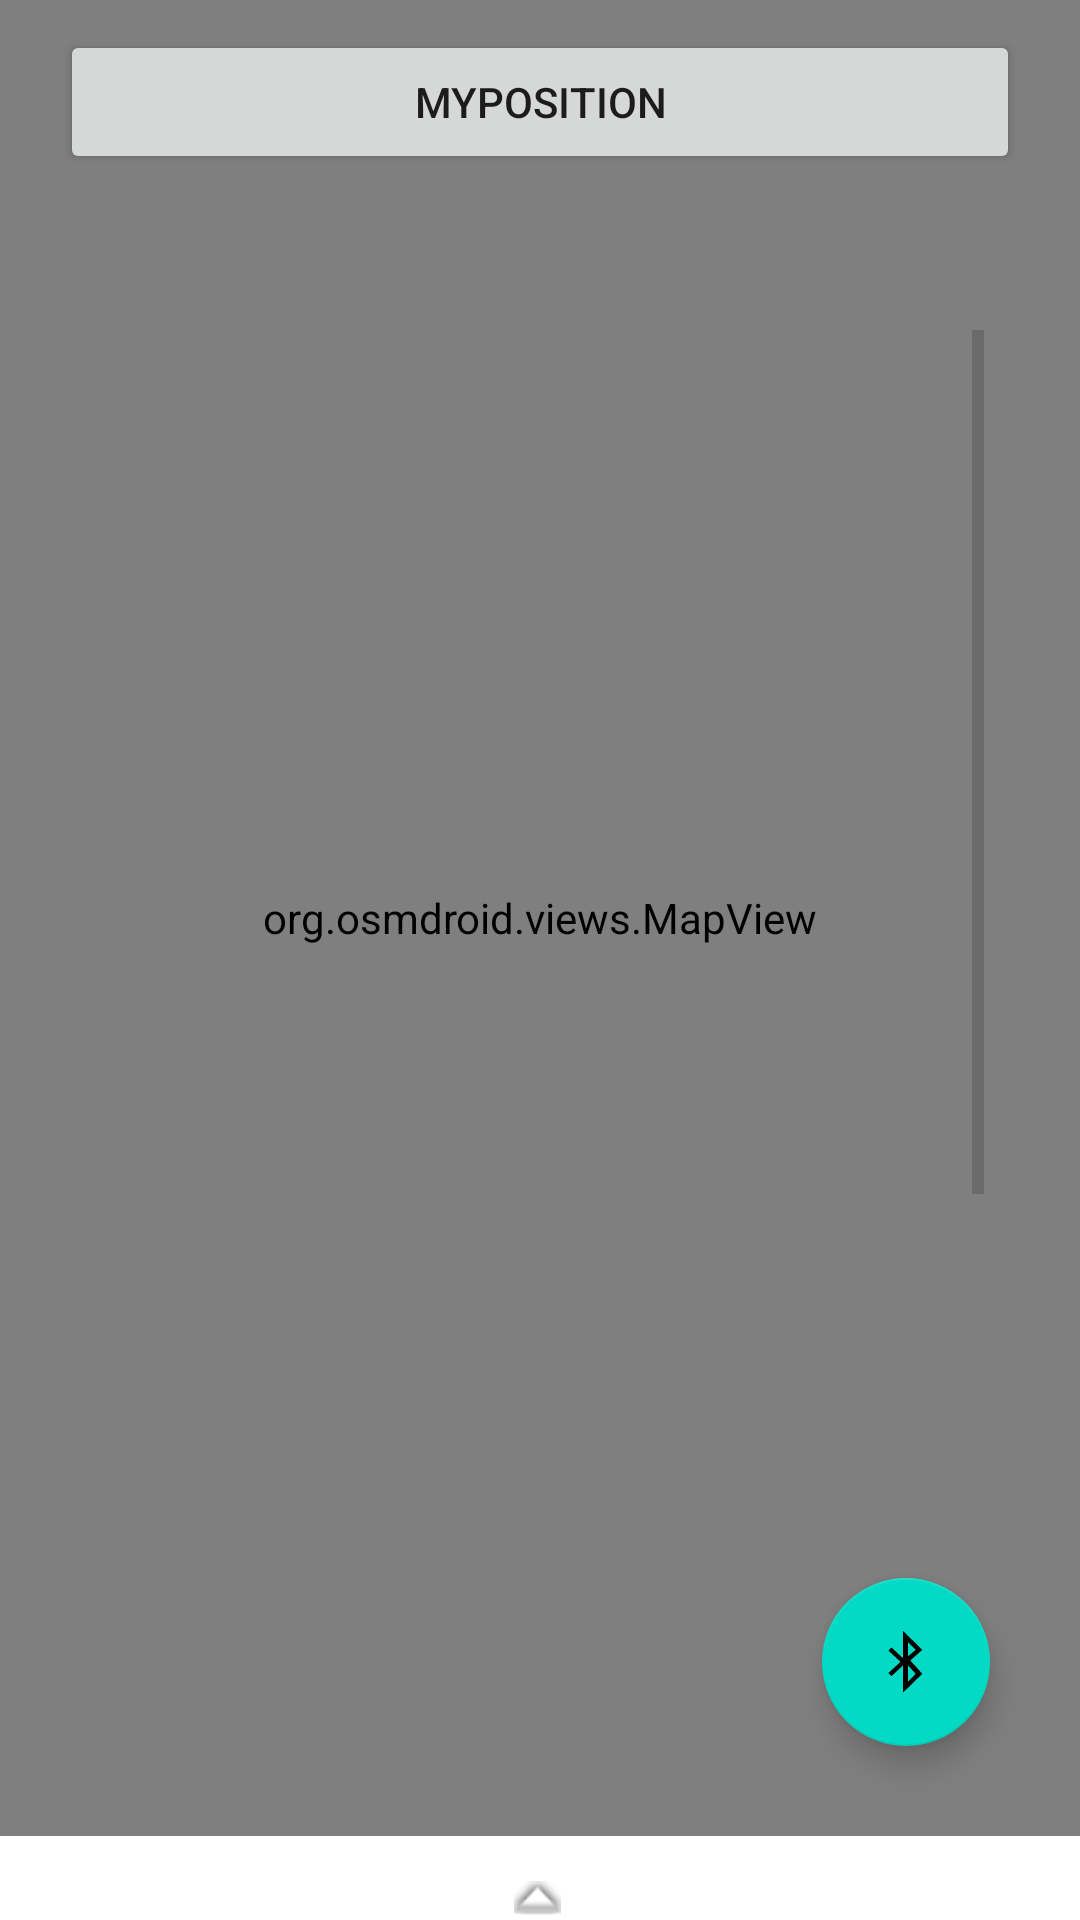

Icons on this 1080 × 1920 Android screen, each with its box as (x1, y1, x2, y2):
arrow up float: (514, 1882, 561, 1914)
